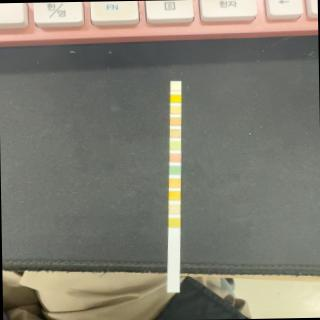mark: (168, 178, 180, 188), (169, 152, 181, 162), (169, 128, 180, 138), (168, 218, 180, 227), (168, 204, 180, 213), (168, 191, 180, 200), (168, 165, 180, 174), (168, 140, 180, 148), (170, 94, 182, 102), (170, 116, 180, 125), (170, 105, 180, 113), (170, 82, 180, 90)
